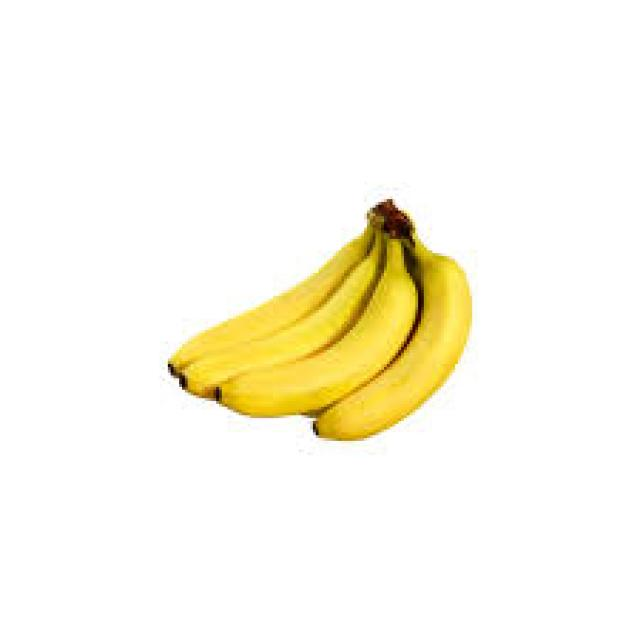banana: (165, 196, 472, 441)
